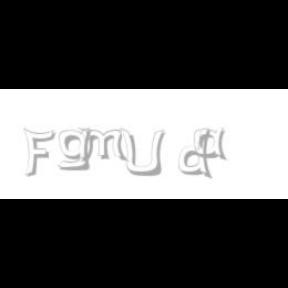F: (23, 128, 55, 178)
U: (120, 128, 164, 178)
a: (195, 128, 232, 160)
d: (179, 128, 216, 180)
g: (58, 128, 94, 171)
m: (77, 128, 129, 162)
